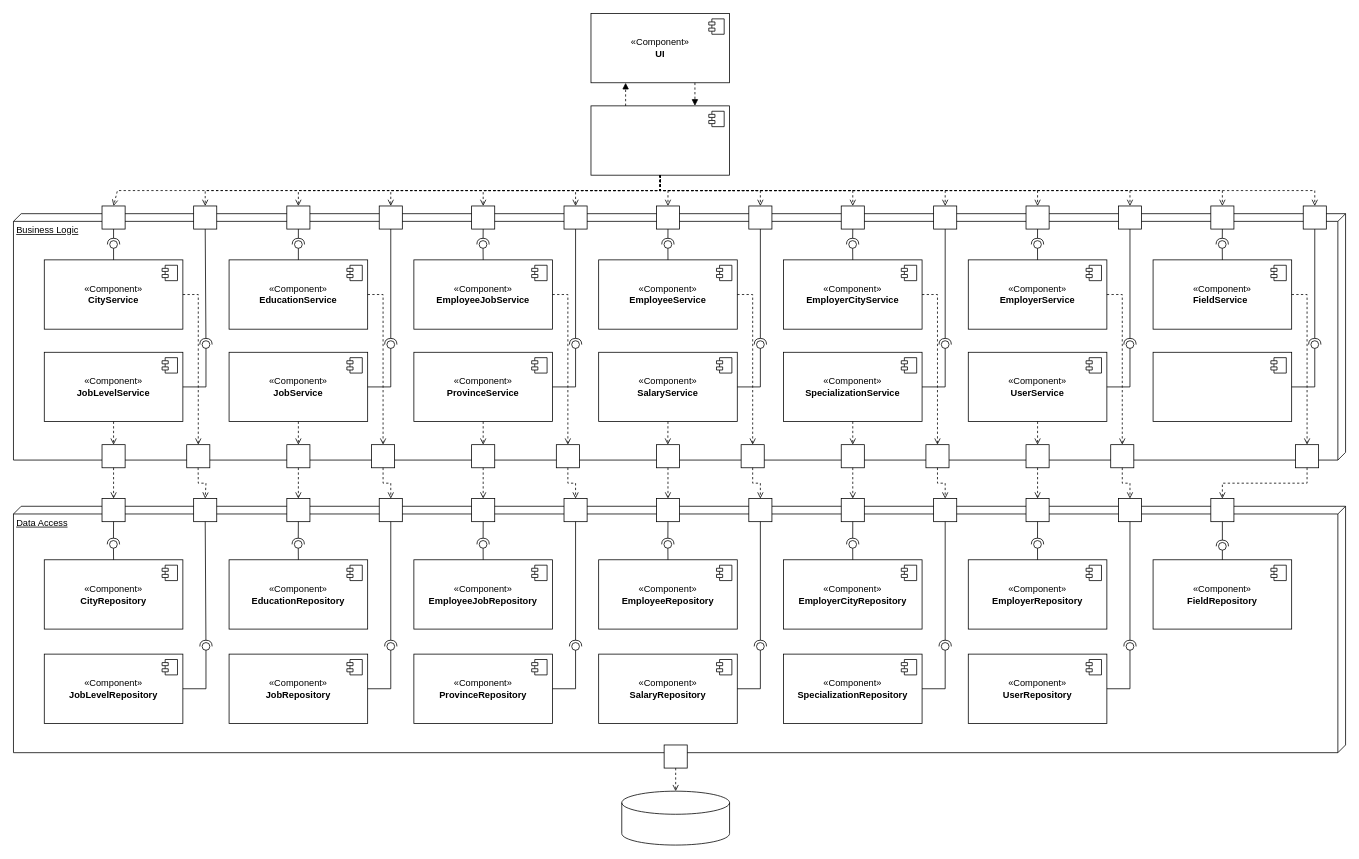
This 1359x859 diagram has some shape labels left out. Each missing label, with the centre of its shape:
Database: point 675,817
«Component» Controllers: point 660,140
«Component» OAuthService: point 1222,387
